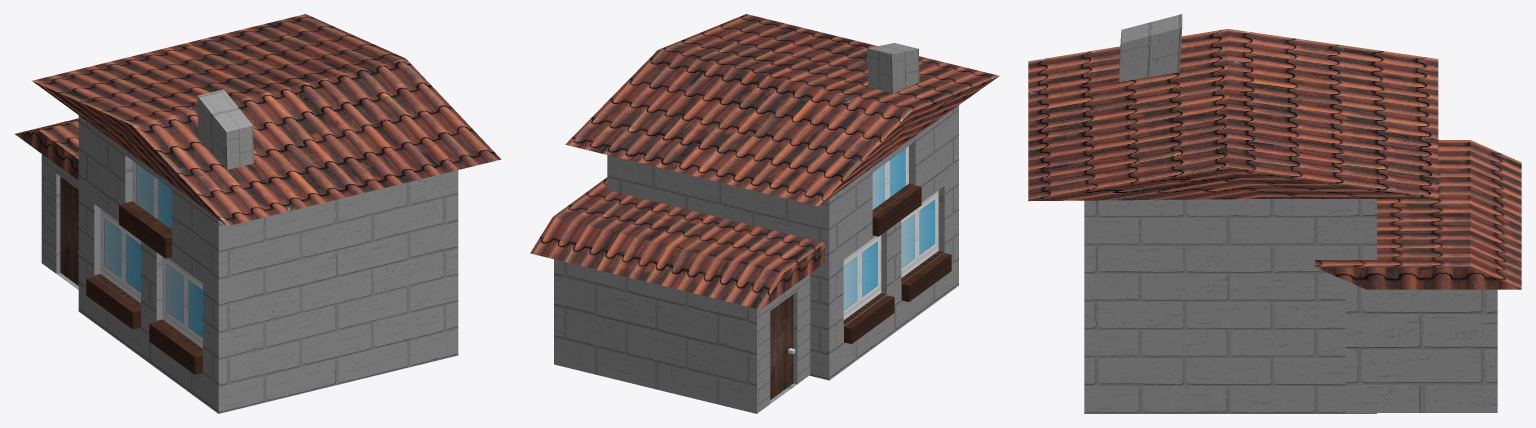
The model's file is barak.glb.
The picture shows the model from 3 angles, left to right: view 1: azimuth 30°, elevation 25°; view 2: azimuth 150°, elevation 25°; view 3: azimuth 270°, elevation 25°; orthographic projection. The views are drawn at different scales.
Parts seen in each view (by area): view 1: Cube, Cube.001; view 2: Cube.001, Cube; view 3: Cube.001, Cube.
Part boxes in pixels (<box>): Cube: <box>78,89,458,413</box>; Cube.001: <box>15,14,501,289</box>; Cube.001: <box>530,14,999,413</box>; Cube: <box>607,43,958,380</box>; Cube.001: <box>1028,29,1521,412</box>; Cube: <box>1084,14,1376,413</box>.
Size of the model in its own units: 4.49 by 4.36 by 6.7.
7 materials, 6 textured.
